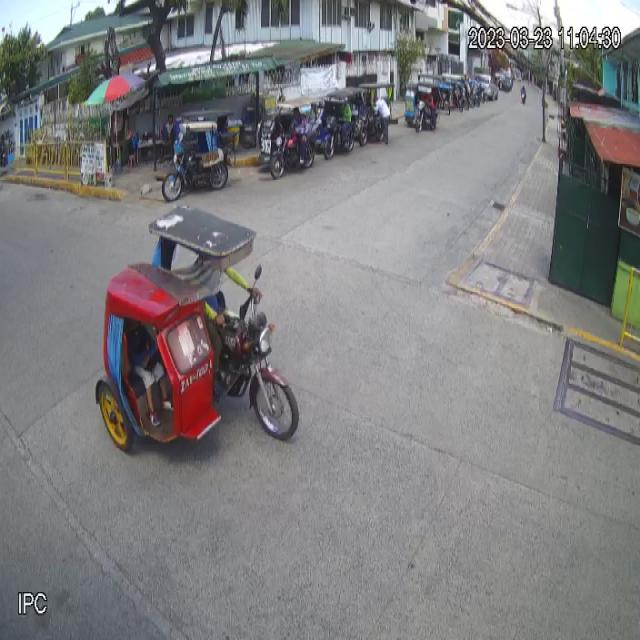Tricycle: (95, 203, 301, 452)
